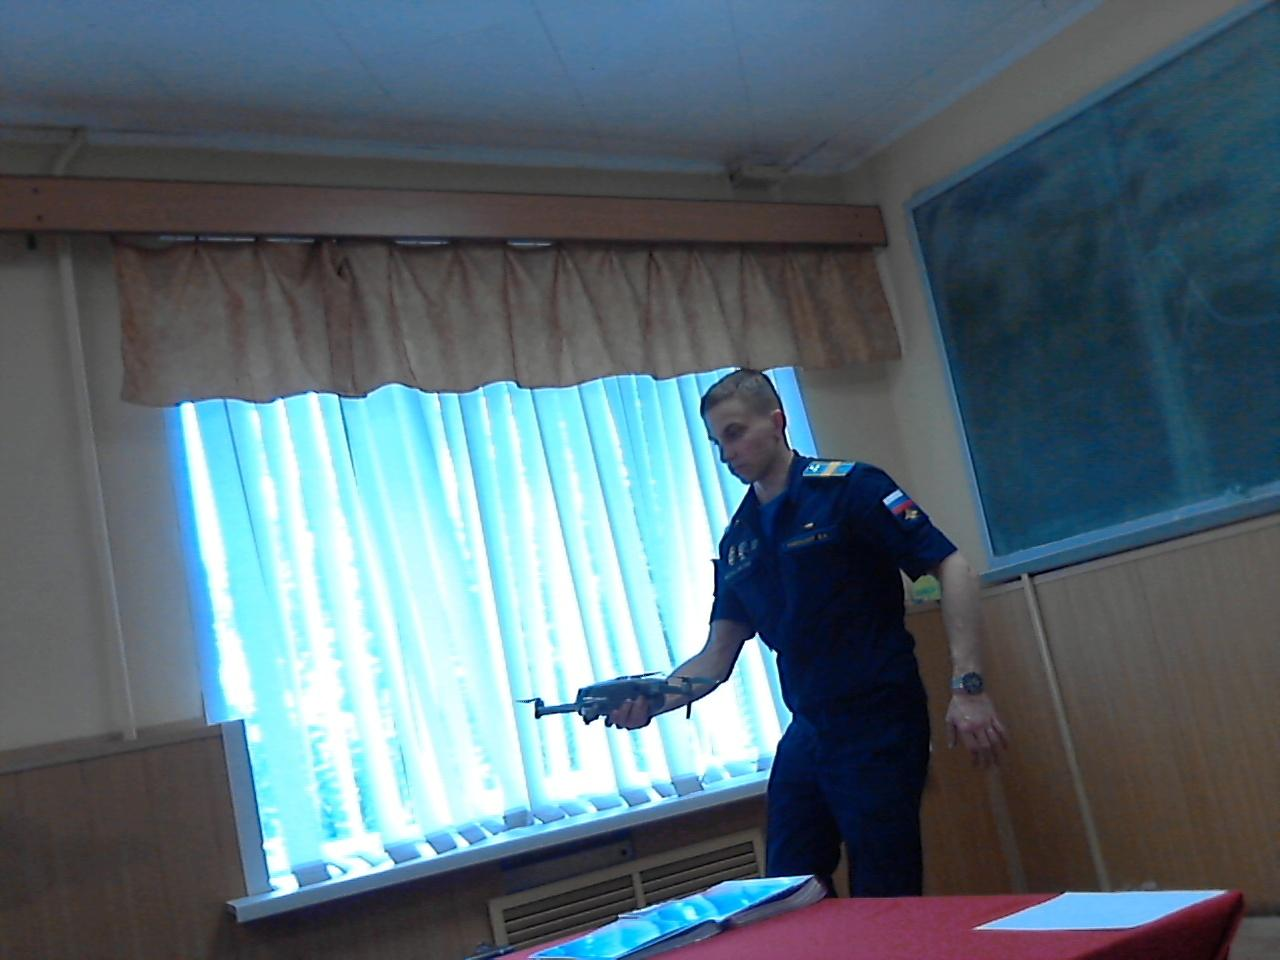drone: (510, 650, 726, 746)
